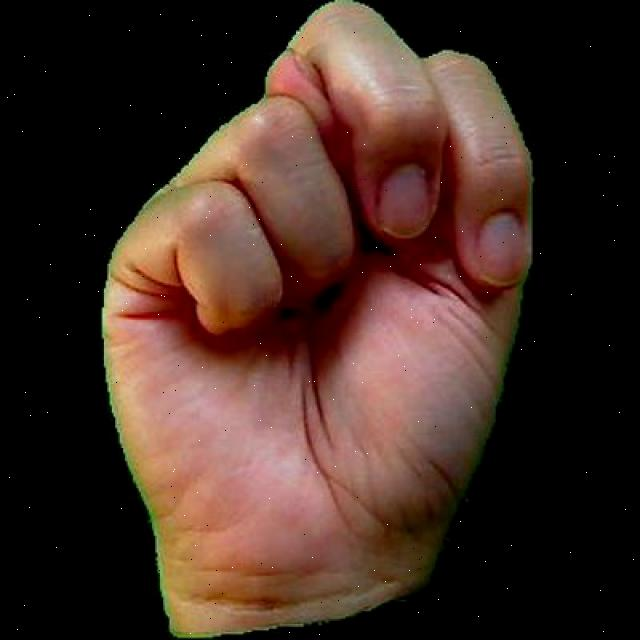n: (74, 0, 536, 637)
